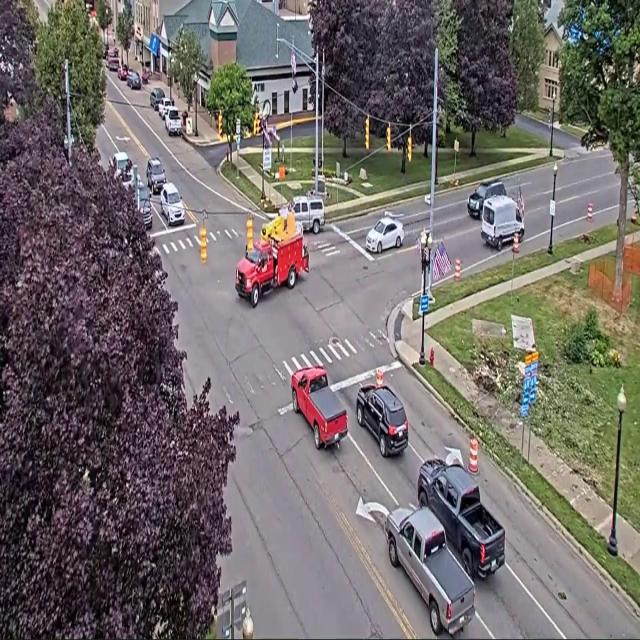car: (356, 385, 408, 457), (467, 179, 506, 219), (366, 216, 404, 253), (161, 182, 185, 226), (136, 180, 152, 229), (146, 158, 166, 194), (112, 151, 131, 175), (165, 107, 181, 135), (158, 97, 174, 119), (150, 88, 164, 111), (120, 167, 133, 189), (127, 72, 141, 89), (107, 56, 120, 71), (117, 65, 129, 81), (103, 44, 109, 59)
traffic signal: (246, 215, 253, 252), (200, 226, 206, 263), (386, 124, 392, 151), (253, 112, 260, 135), (407, 134, 412, 162), (365, 117, 369, 150), (217, 112, 222, 136), (548, 107, 553, 127)
truck: (385, 507, 474, 636), (417, 458, 505, 577), (235, 214, 308, 307), (291, 367, 347, 448)
